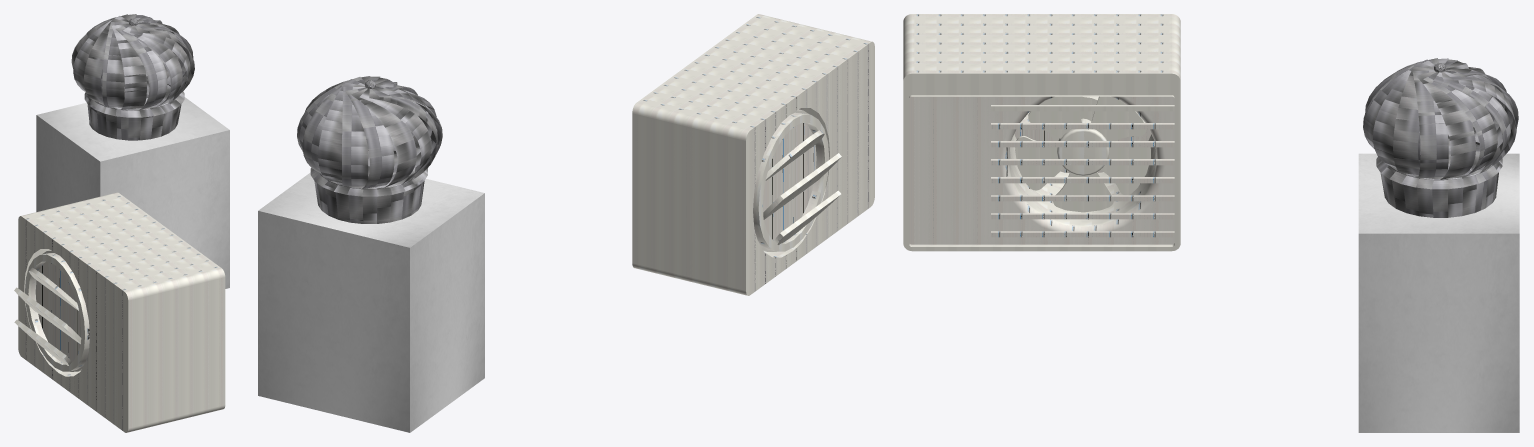
File: 26 Ventilator.fbx
The picture shows the model from 3 angles, left to right: view 1: azimuth 30°, elevation 25°; view 2: azimuth 150°, elevation 25°; view 3: azimuth 270°, elevation 25°; orthographic projection. The views are drawn at different scales.
Visible parts, largest first — view 1: Box001, Box002; view 2: Box002, Box001; view 3: Box001, Box002.
Boxes of the visible parts, x1,y1,x2,y2 form: Box001: (14, 192, 225, 432); Box002: (36, 14, 229, 288); Box002: (258, 76, 484, 432); Box001: (632, 14, 874, 295); Box001: (903, 14, 1180, 251); Box002: (1358, 58, 1519, 432).
Bounding box in the file's own units: 72.39 × 60.18 × 102.
3 materials, 3 textured.
